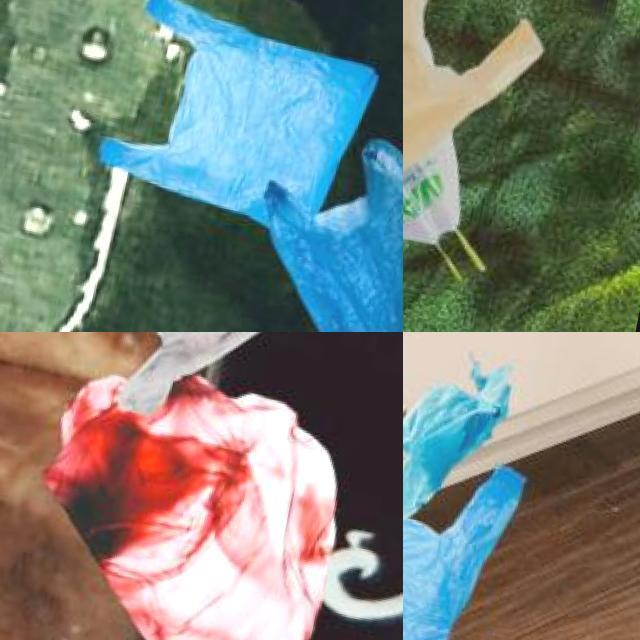waste: (90, 0, 380, 234), (238, 100, 403, 332), (403, 369, 535, 640), (403, 0, 551, 236), (76, 332, 325, 431), (403, 0, 495, 252)
